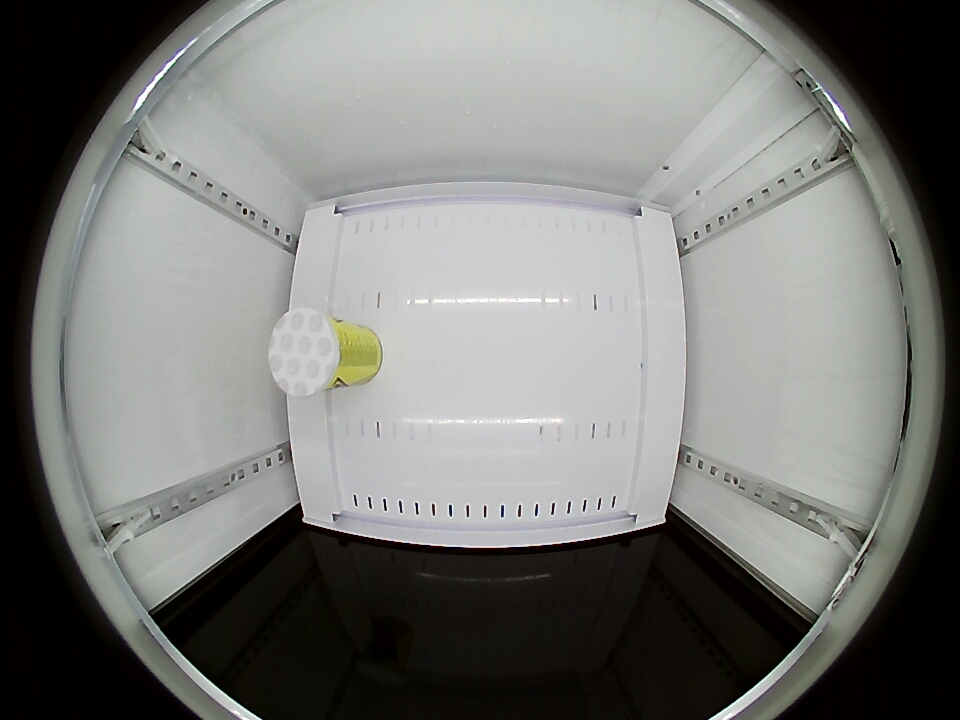kebike: (268, 308, 350, 397)
